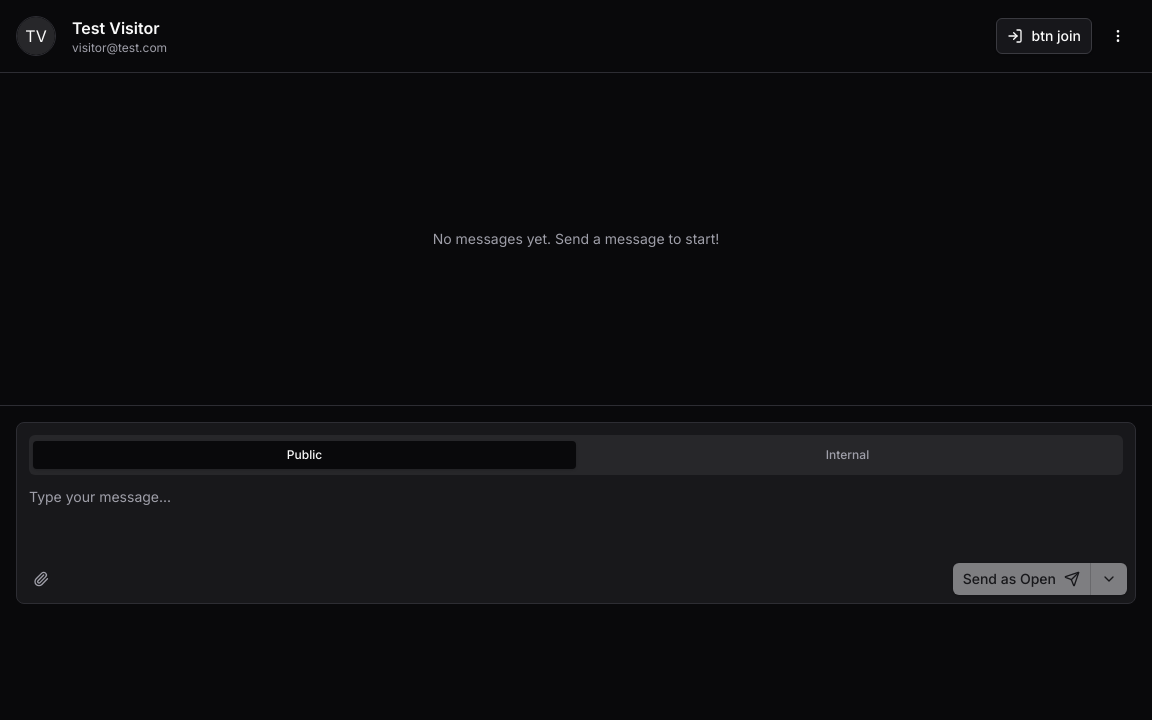
Scenario: ChatDisplay input › shows canned response picker when typing '/'
Type "/" into the text box with placeholder "Type your message..." at (576, 515), box [17,475,1135,555]
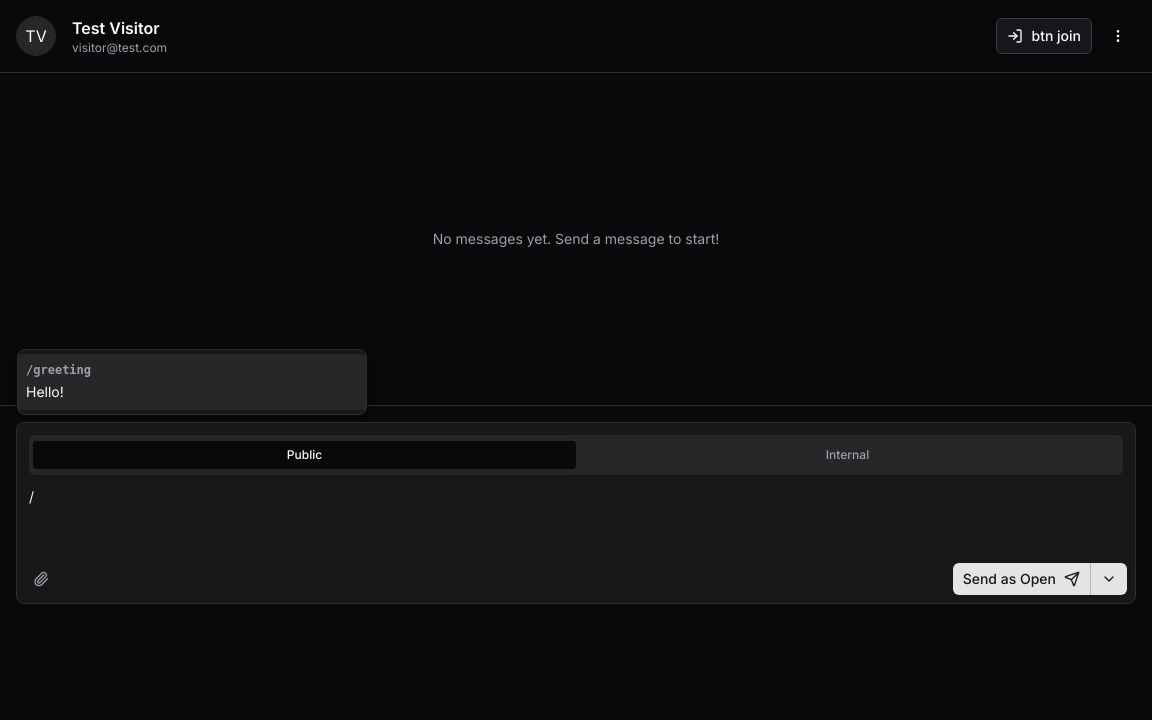
Now the text "Hello!" is shown, box [26,383,64,400]
